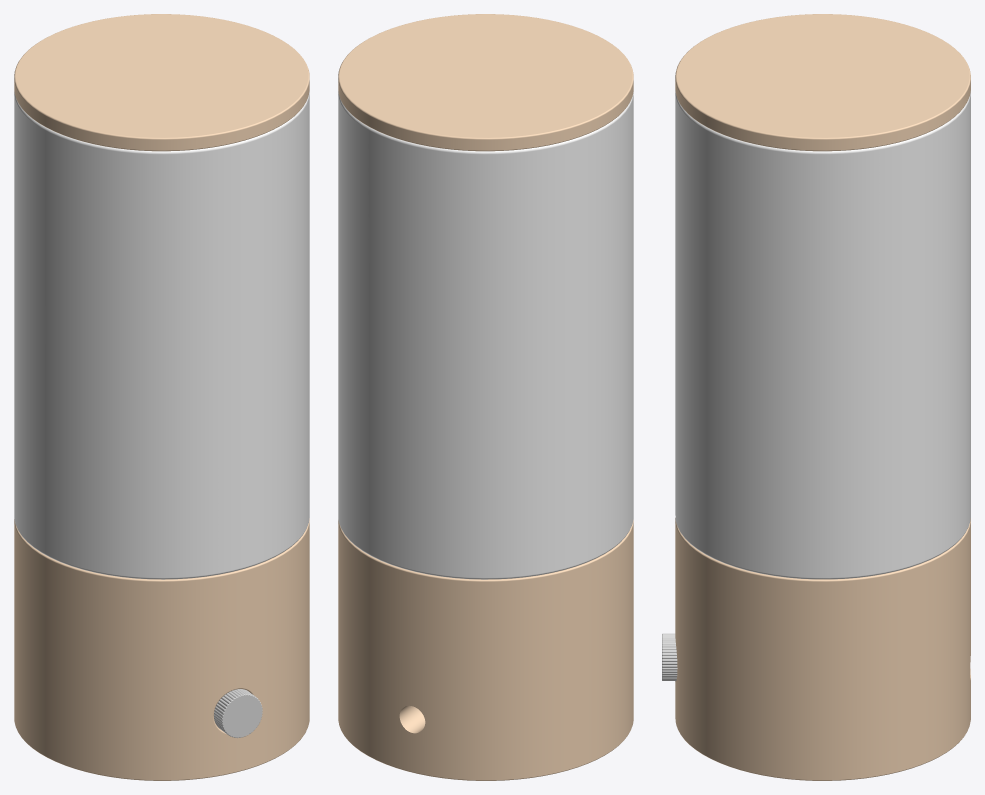
3 renders of one model, left to right at view 1: azimuth 30°, elevation 25°; view 2: azimuth 150°, elevation 25°; view 3: azimuth 270°, elevation 25°, orthographic.
Parts seen in each view (by area): view 1: shade-1, base-1, top-1, knob-1; view 2: shade-1, base-1, top-1; view 3: shade-1, base-1, top-1, knob-1.
Part boxes in pixels (x1,y1,x2,y2): shade-1: (14, 92, 309, 579); base-1: (14, 518, 309, 780); top-1: (14, 14, 309, 151); knob-1: (213, 689, 262, 738); shade-1: (338, 91, 633, 579); base-1: (338, 520, 633, 780); top-1: (338, 14, 633, 151); shade-1: (675, 90, 970, 579); base-1: (675, 518, 970, 780); top-1: (675, 14, 970, 151); knob-1: (662, 633, 677, 680).
Size of the model in its own units: 0.1 by 0.24 by 0.1045.
